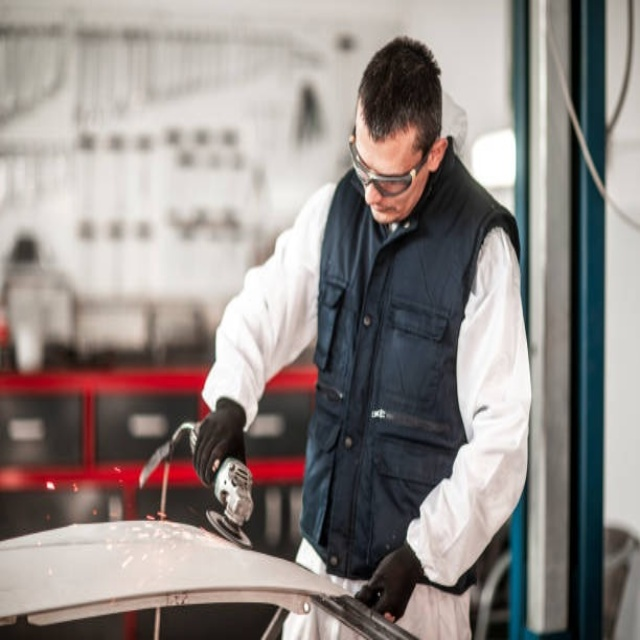Gafas: (349, 127, 431, 196)
Guantes: (356, 540, 424, 623), (192, 397, 248, 490)
Sin_mascara: (367, 195, 402, 226)
